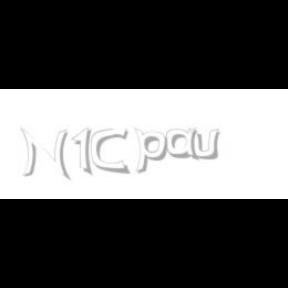1: (71, 128, 93, 176)
C: (92, 128, 128, 174)
N: (20, 128, 68, 180)
a: (166, 128, 204, 160)
p: (134, 128, 172, 174)
u: (189, 128, 224, 160)
